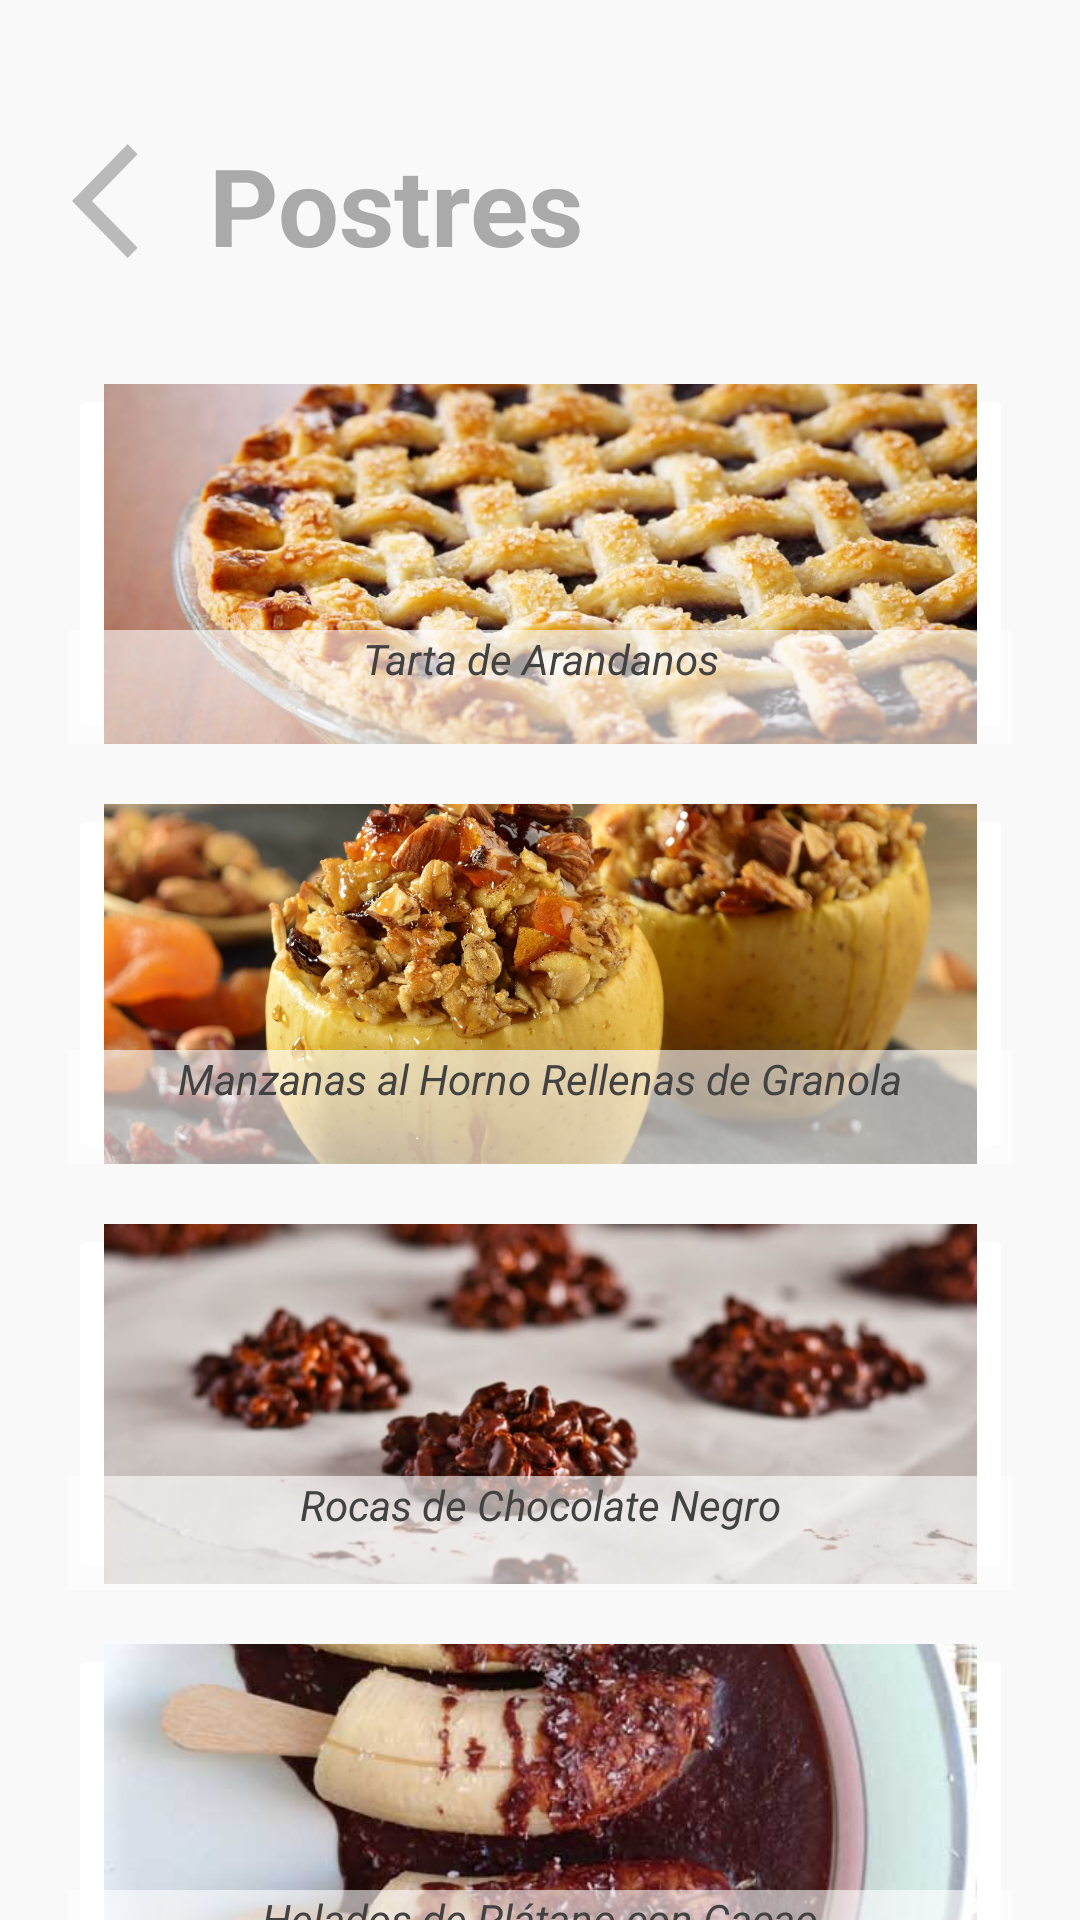

Screen size 1080×1920. Icon name, then its center in pixels as point (x, y):
flecha: point (104, 201)
